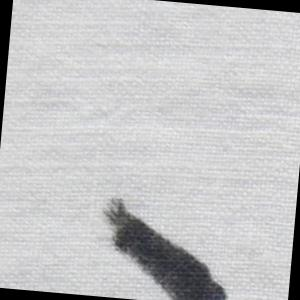Stain: (94, 189, 240, 300)
